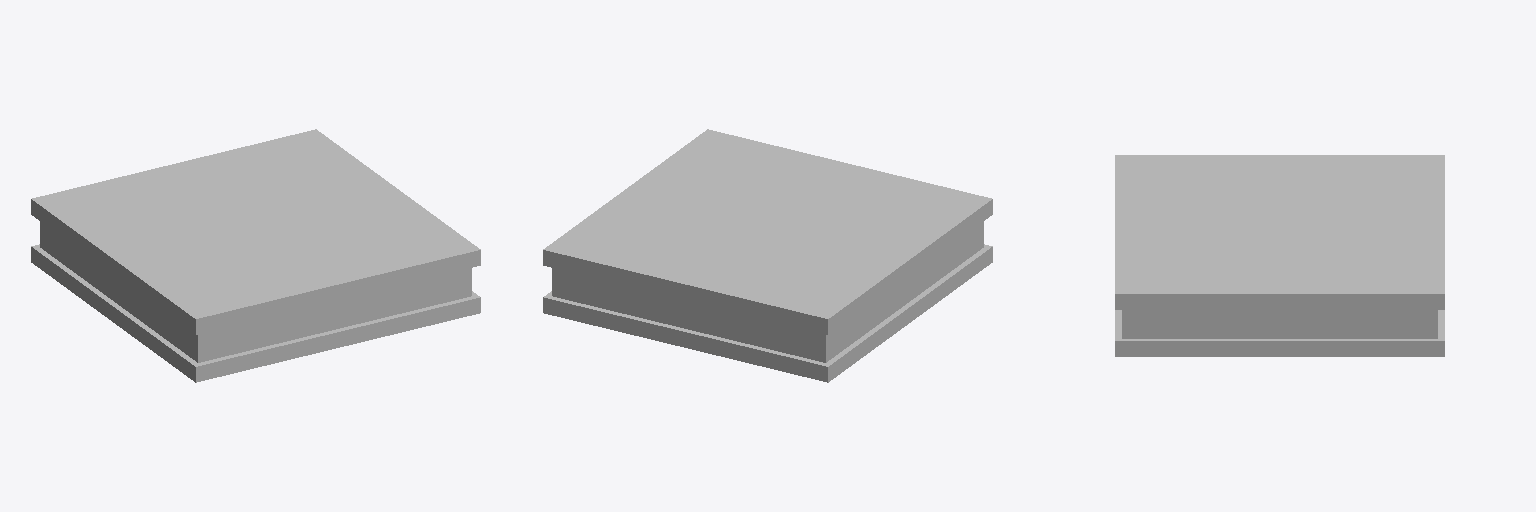
Rendered from roof-flat-detail-b.obj.
The picture shows the model from 3 angles: view 1: azimuth 30°, elevation 25°; view 2: azimuth 150°, elevation 25°; view 3: azimuth 270°, elevation 25°; orthographic projection.
Visible parts, largest first — view 1: roof-flat-detail-b; view 2: roof-flat-detail-b; view 3: roof-flat-detail-b.
Part boxes in pixels (bbox=[...]): roof-flat-detail-b: bbox=[31, 129, 480, 382]; roof-flat-detail-b: bbox=[543, 129, 992, 382]; roof-flat-detail-b: bbox=[1115, 155, 1444, 356].
Bounding box in the file's own units: 1 × 0.2125 × 1.